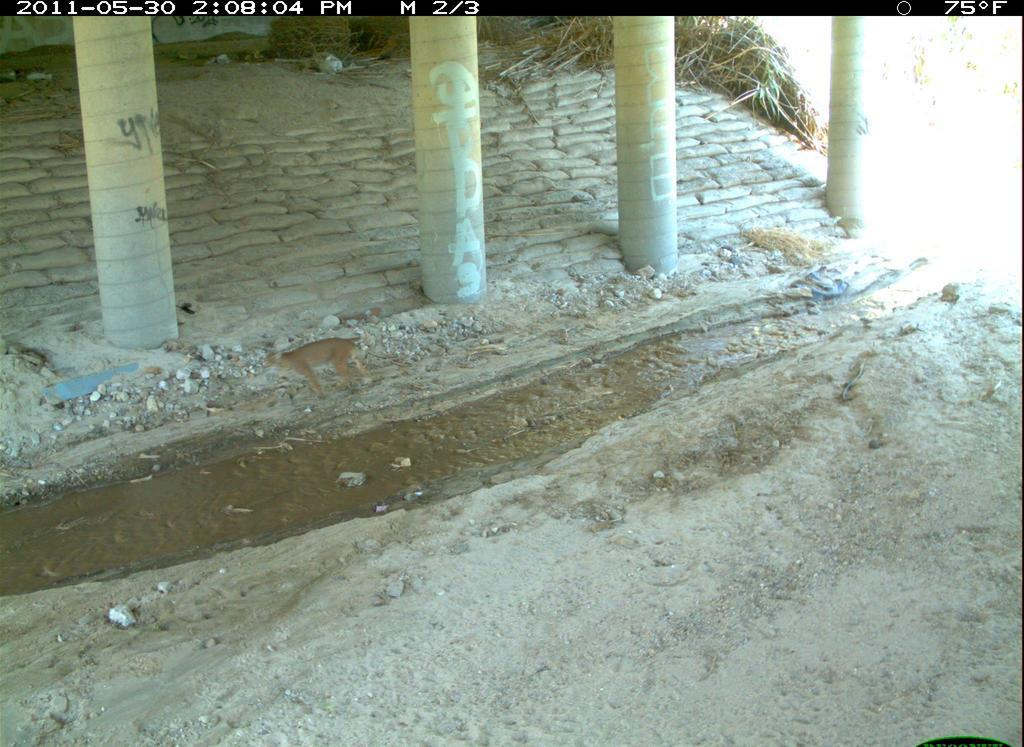bobcat: (517, 658, 760, 747)
